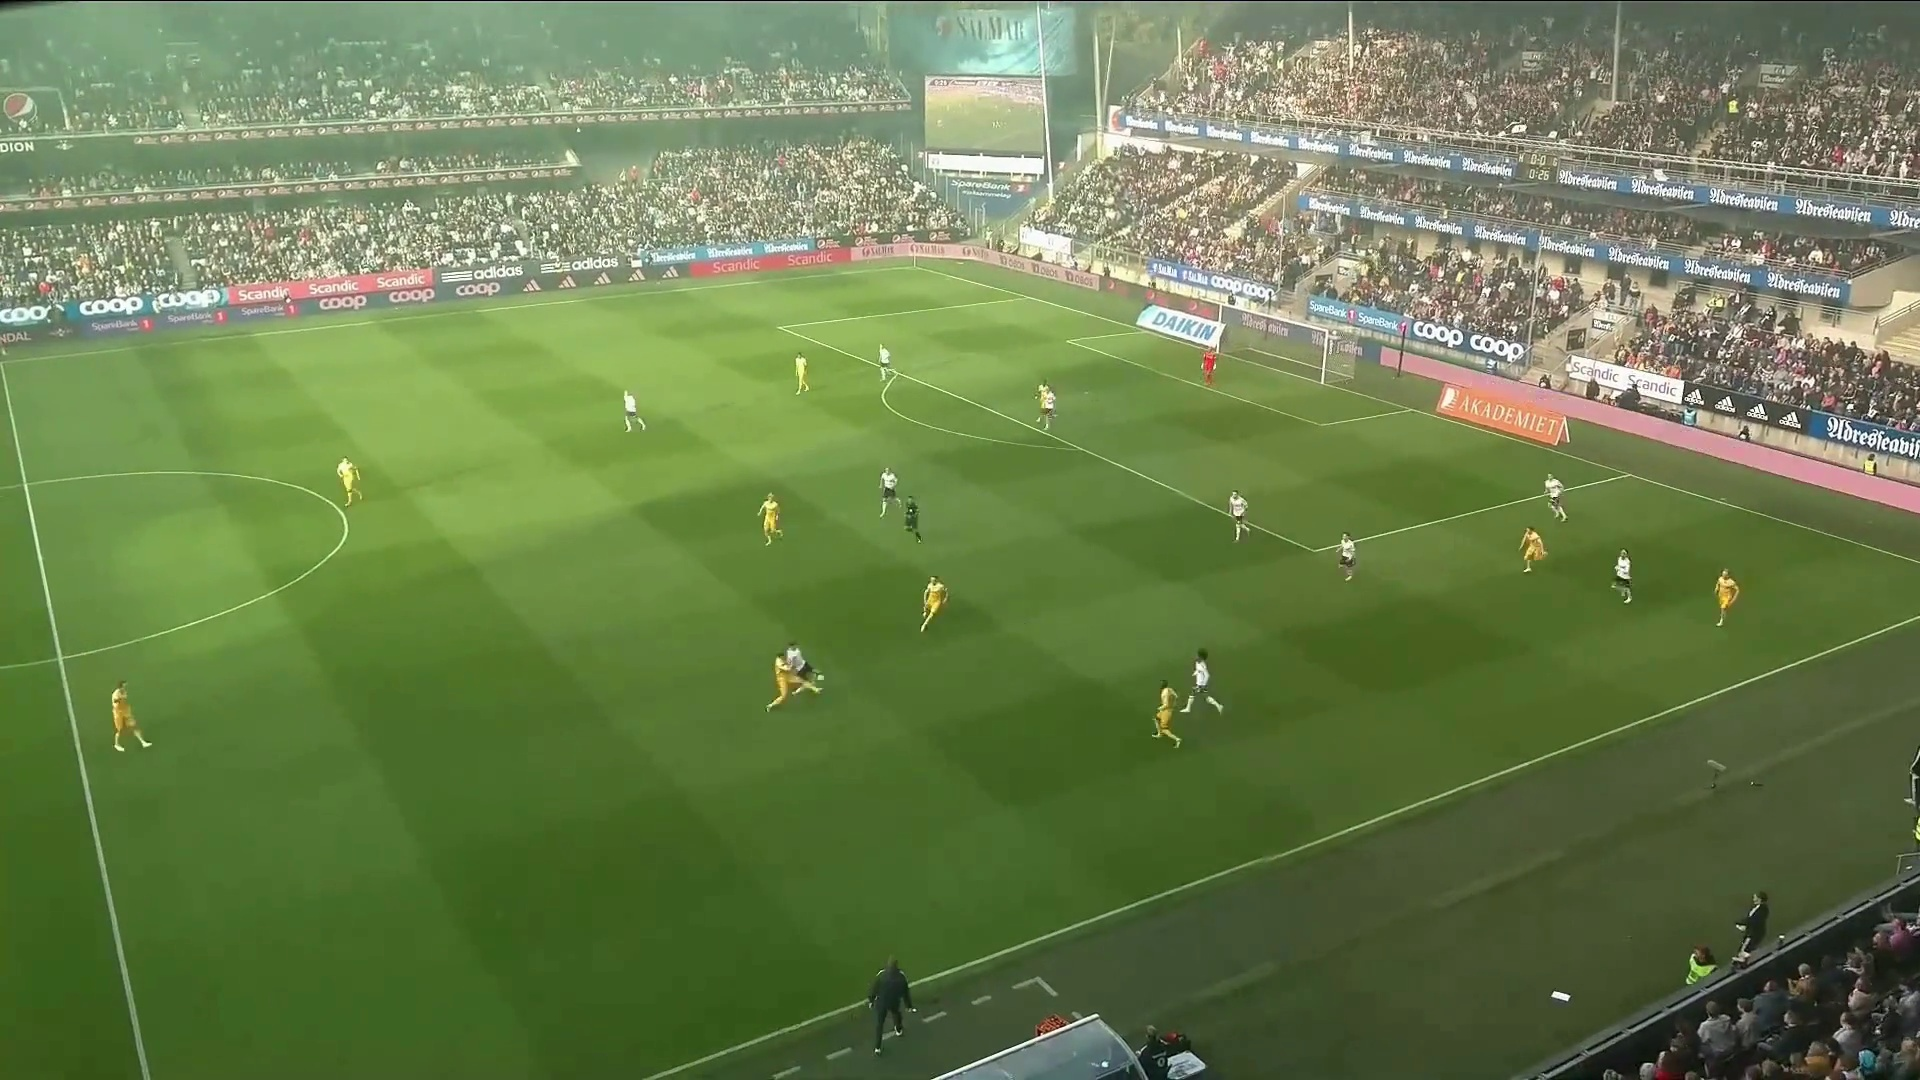player: (1179, 647, 1225, 717), (111, 679, 153, 752), (783, 640, 824, 711), (764, 650, 805, 712), (1152, 678, 1183, 748), (920, 575, 948, 632), (1713, 568, 1740, 627), (756, 491, 782, 546), (336, 455, 363, 507), (1519, 525, 1547, 573), (878, 466, 901, 519), (1544, 472, 1568, 522), (1612, 548, 1633, 604), (1228, 489, 1250, 542), (1035, 383, 1057, 430), (623, 389, 647, 432), (1336, 532, 1356, 582), (903, 496, 923, 544), (794, 351, 810, 394), (1201, 347, 1217, 387), (878, 343, 892, 380)
